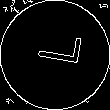L_W: (28, 35, 82, 75)
